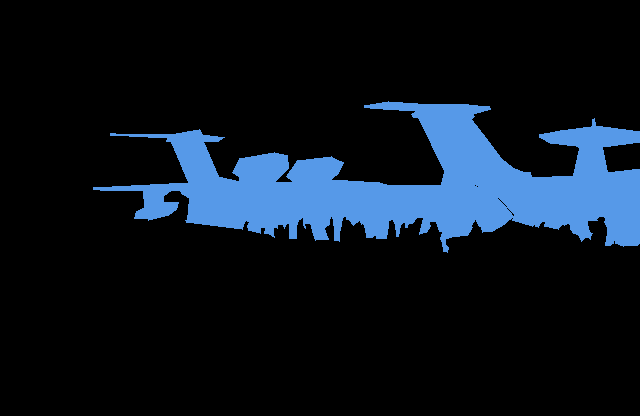Airplane: (93, 129, 514, 253), (364, 101, 640, 247)
